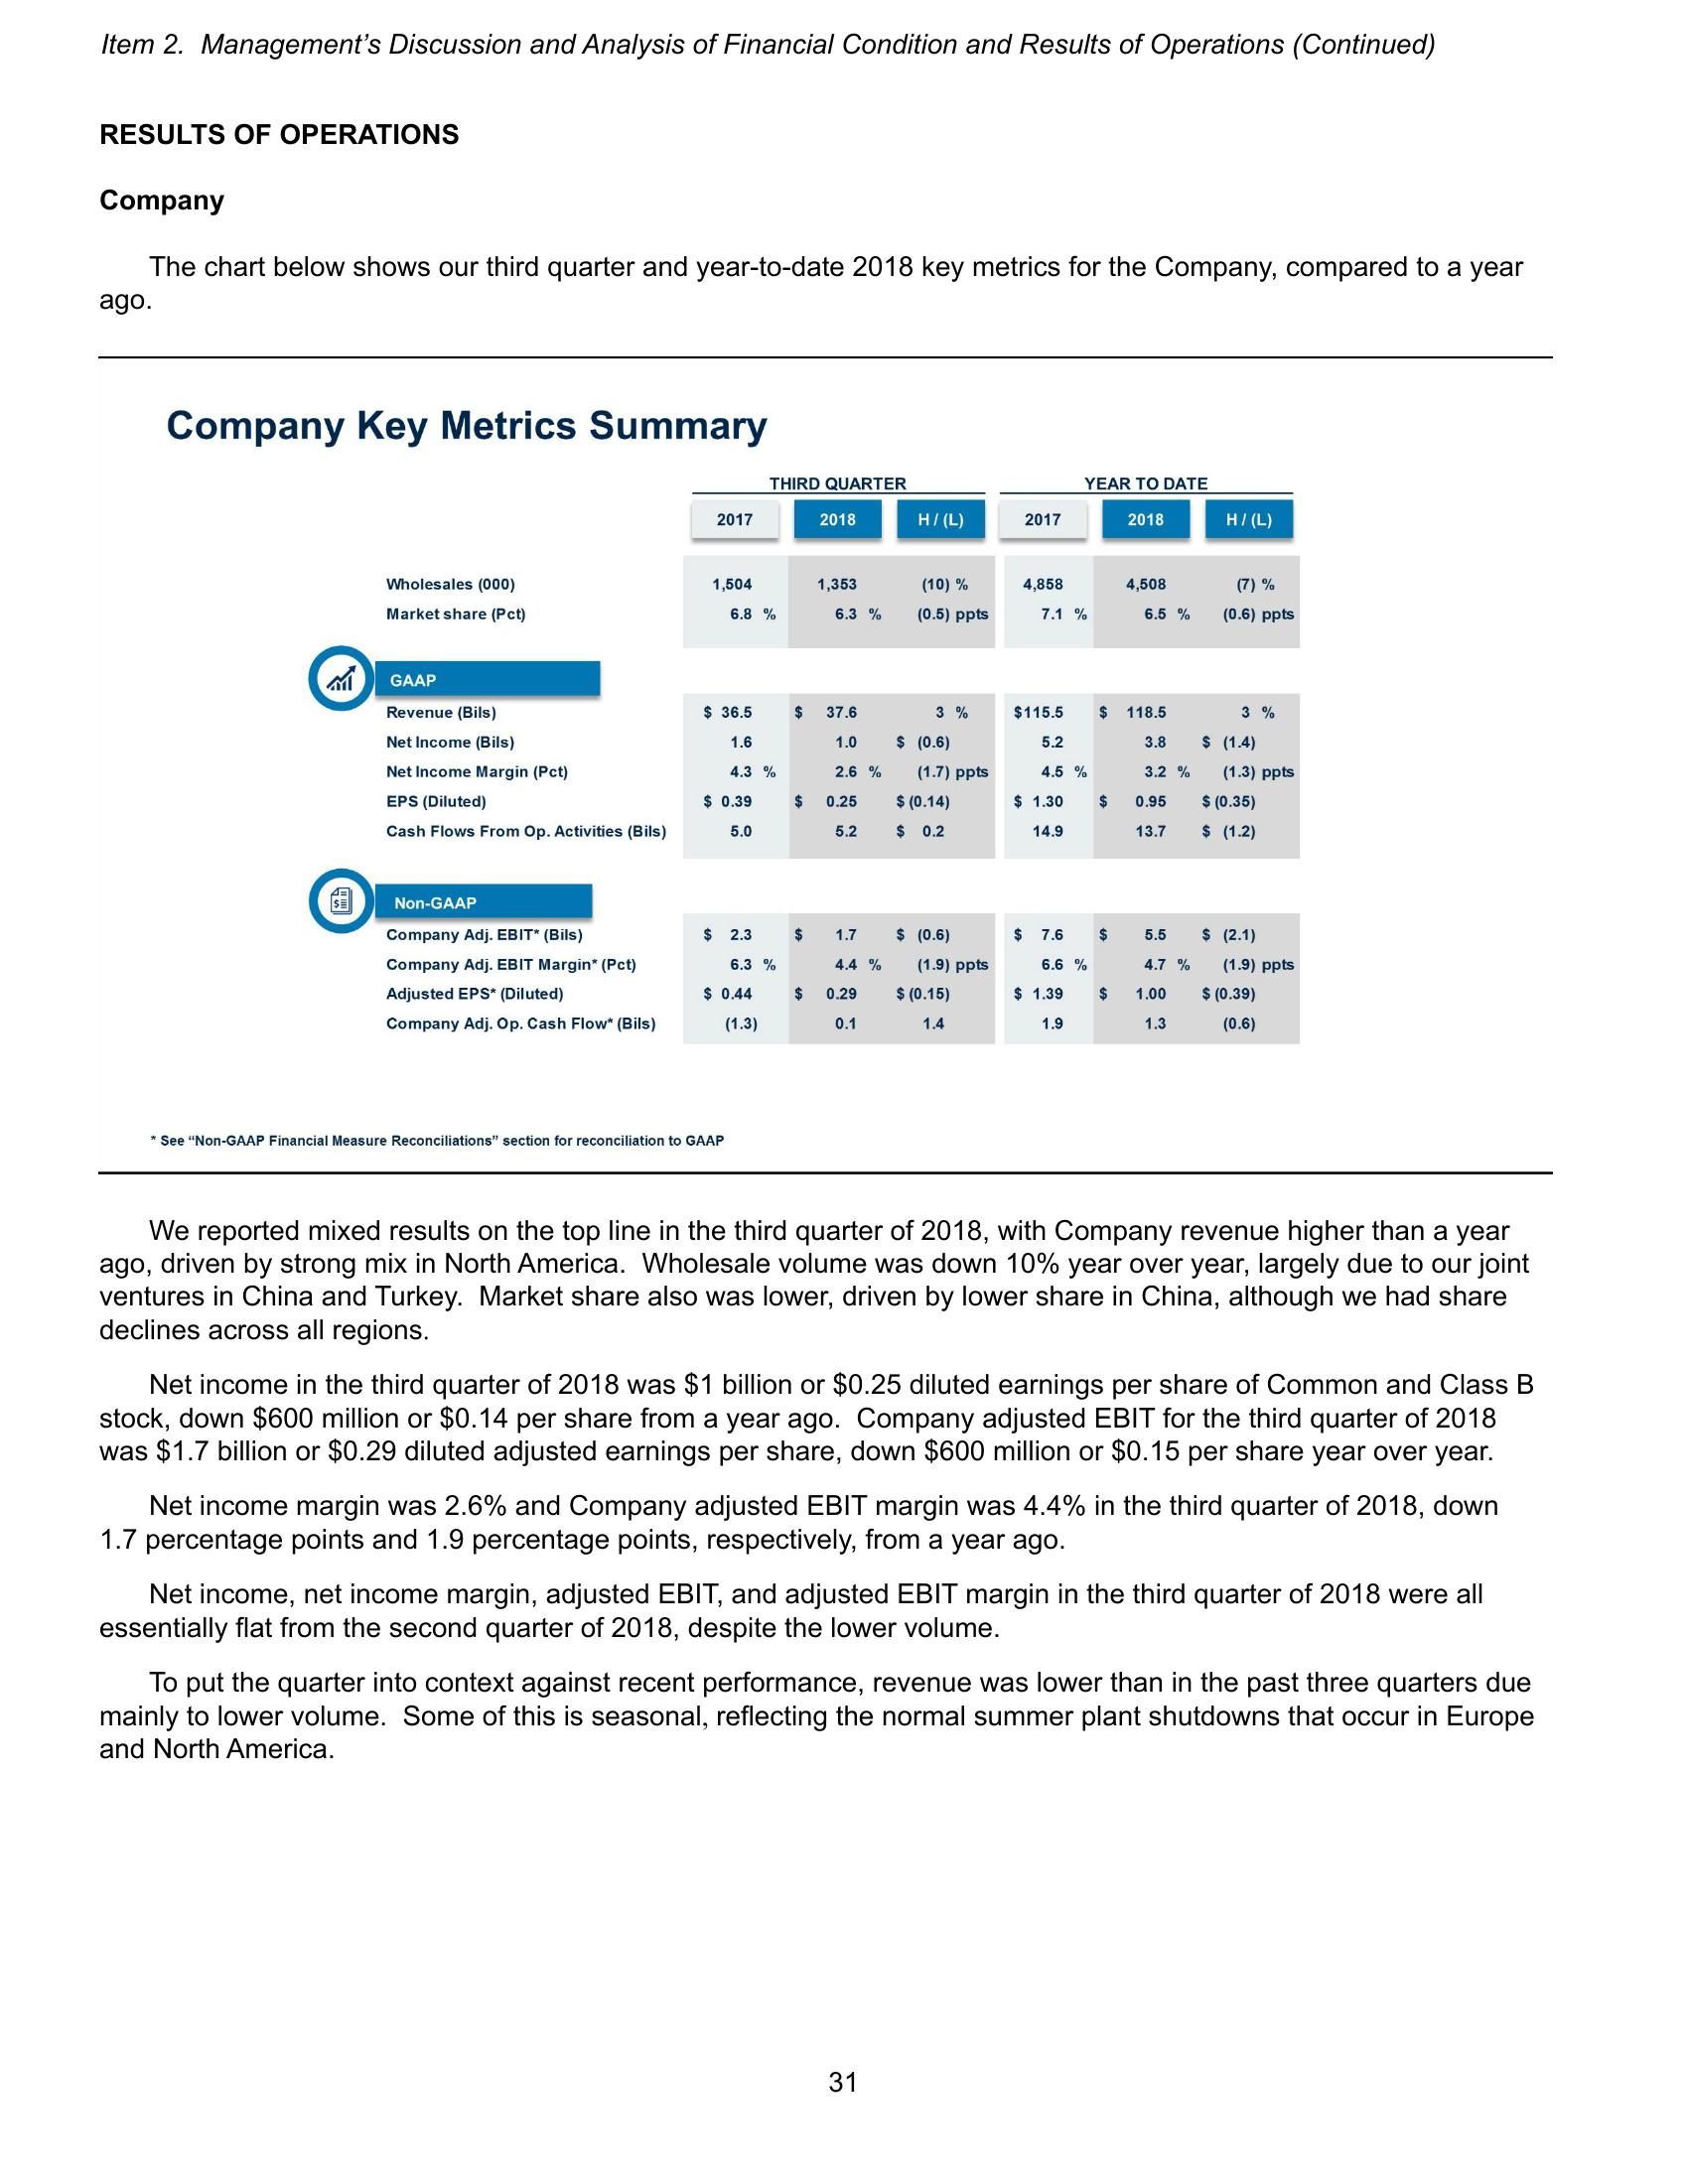table: (296, 466, 1309, 1053)
